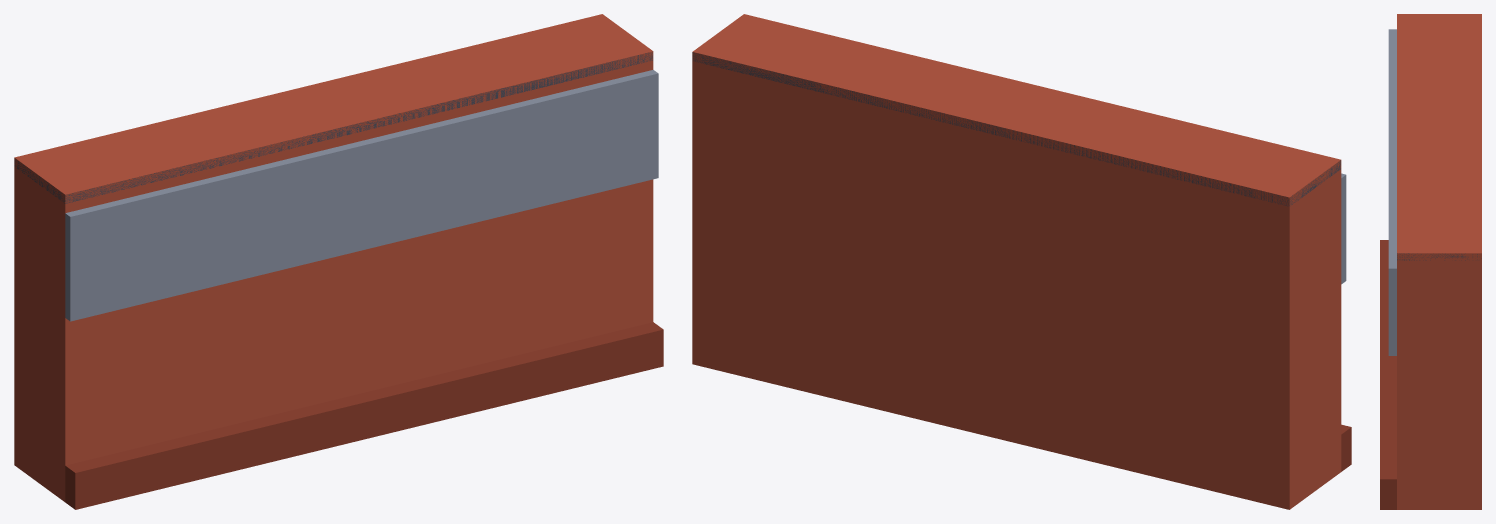
File: wall.glb
3 views of the same model, side by side, from view 1: azimuth 30°, elevation 25°; view 2: azimuth 150°, elevation 25°; view 3: azimuth 270°, elevation 25° (orthographic). The views are drawn at different scales.
Parts seen in each view (by area): view 1: wall; view 2: wall; view 3: wall.
Boxes of the visible parts, bbox=[...] form: wall: bbox=[14, 14, 663, 509]; wall: bbox=[692, 14, 1351, 509]; wall: bbox=[1380, 14, 1481, 509].
Bounding box in the file's own units: 1 × 0.5 × 0.18.
1 material, 1 textured.
